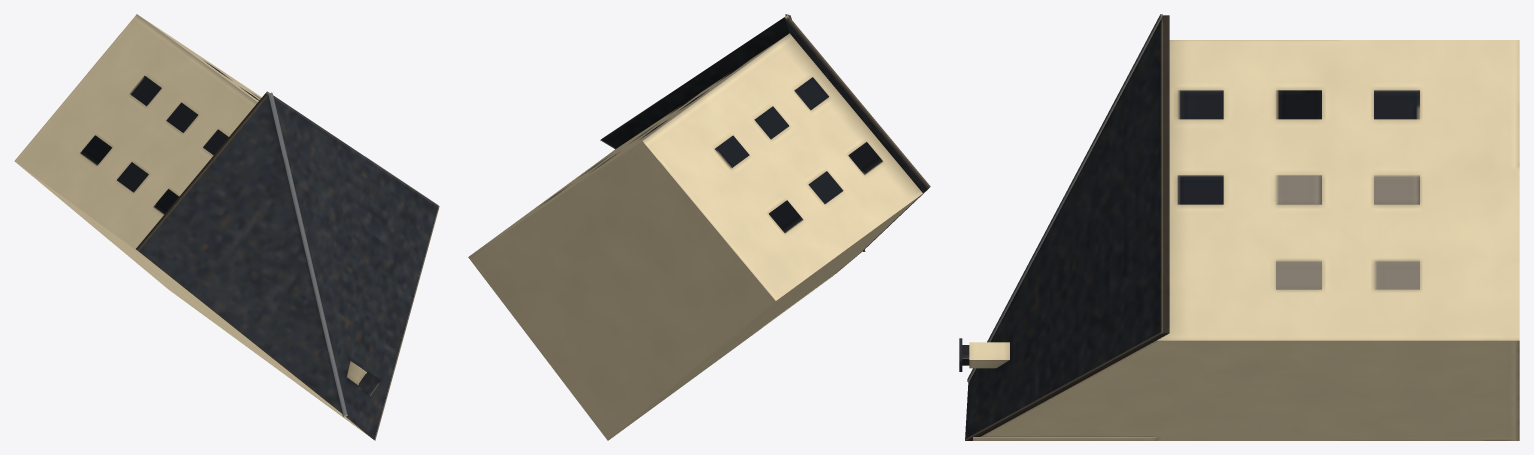
The model's file is house_b0304.obj.
3 renders of one model, left to right at view 1: azimuth 30°, elevation 25°; view 2: azimuth 150°, elevation 25°; view 3: azimuth 270°, elevation 25°, orthographic. The views are drawn at different scales.
Parts seen in each view (by area): view 1: house_b0304; view 2: house_b0304; view 3: house_b0304.
Part boxes in pixels (x1,y1,x2,y2): house_b0304: (14, 14, 439, 440); house_b0304: (468, 14, 930, 440); house_b0304: (959, 14, 1519, 440).
Size of the model in its own units: 14.24 by 13.64 by 17.11.
1 material, 1 textured.
